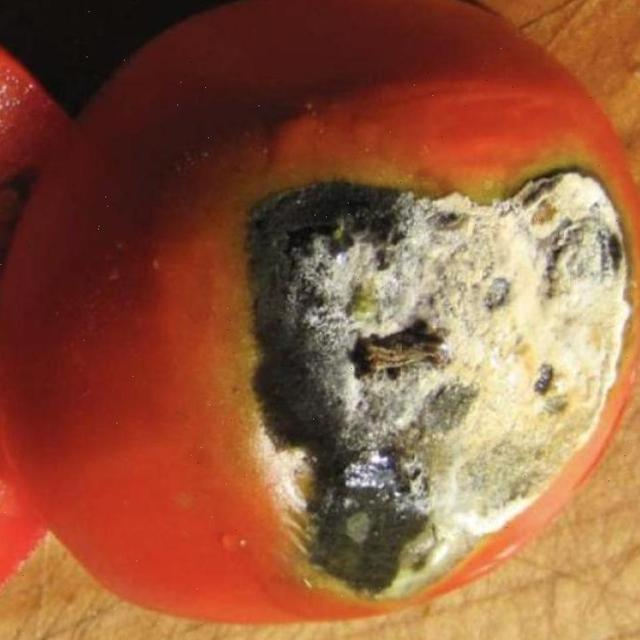Blossom End Rot Fruit: (170, 83, 426, 416)
